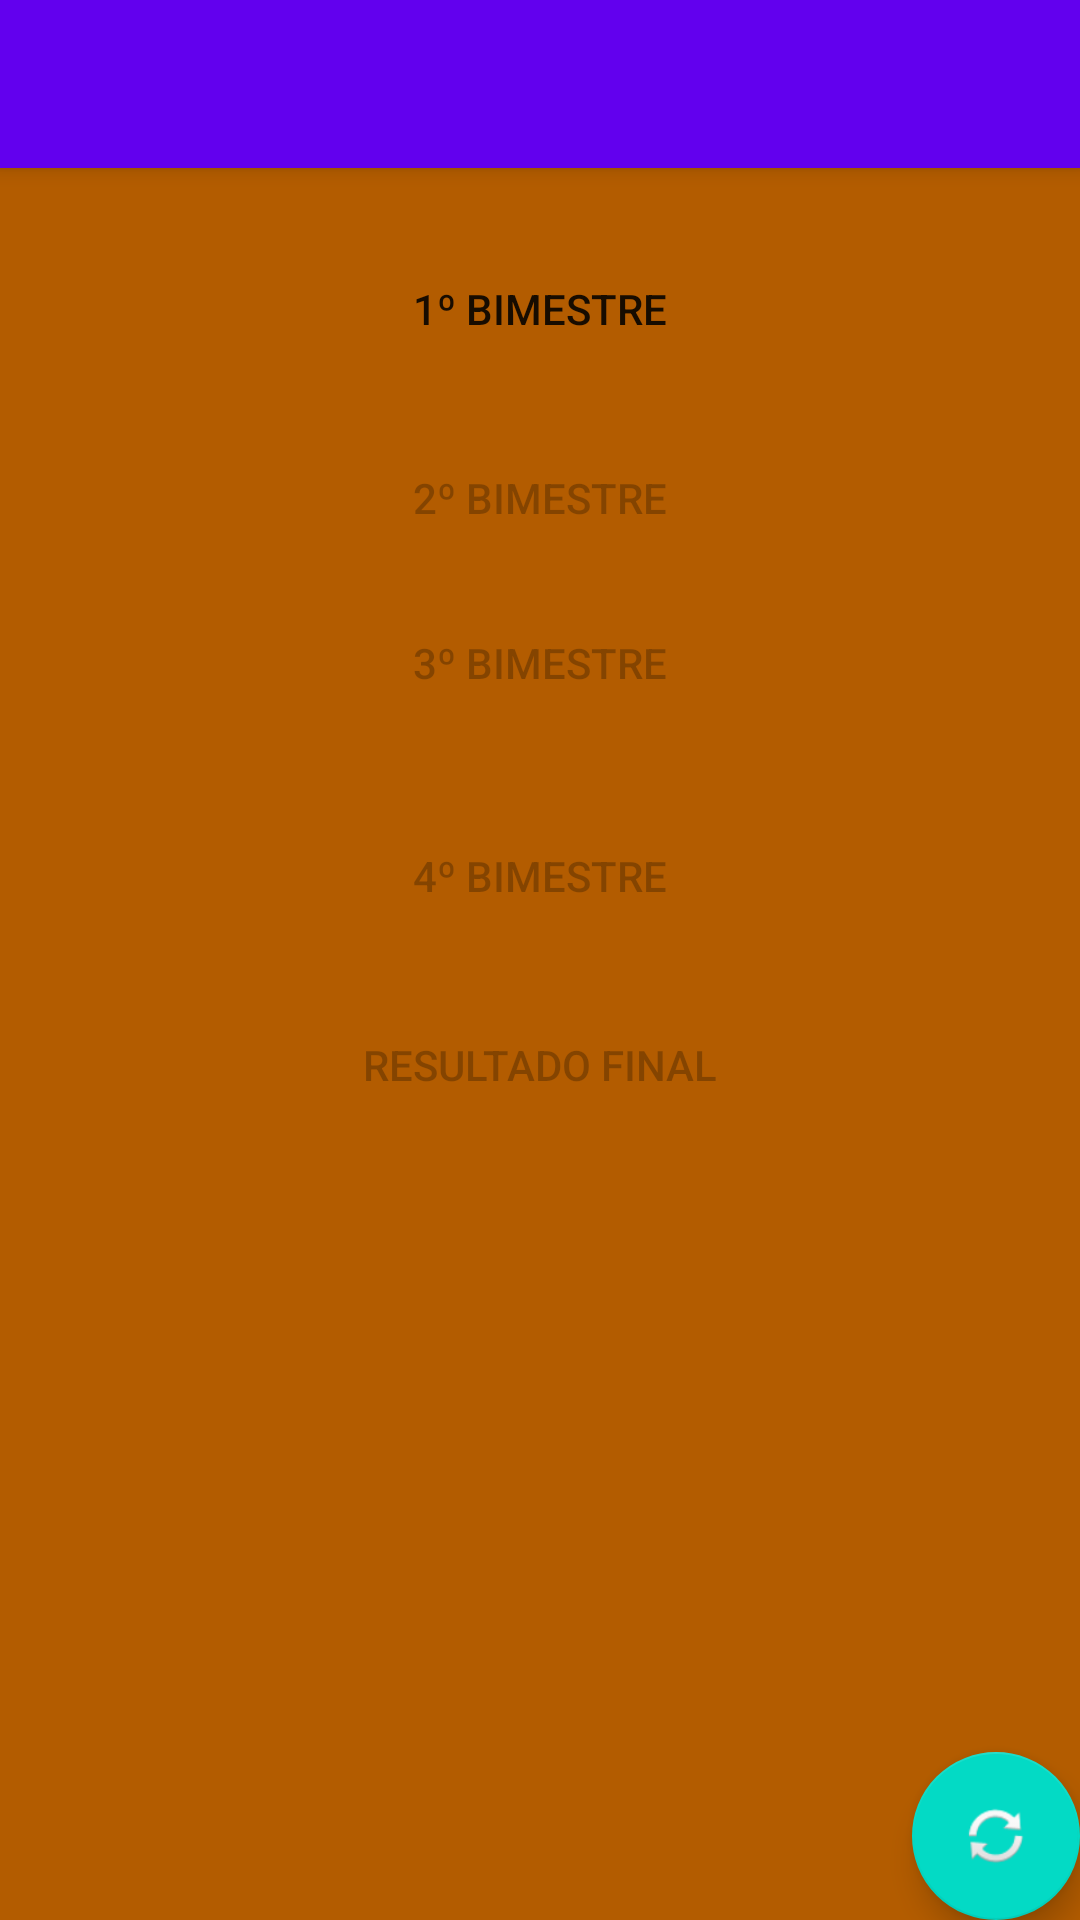

Screen size 1080 × 1920. Icon name, then its box in pixels as box=[x1, y1, x2, y2]:
popup sync: box=[912, 1752, 1080, 1920]
